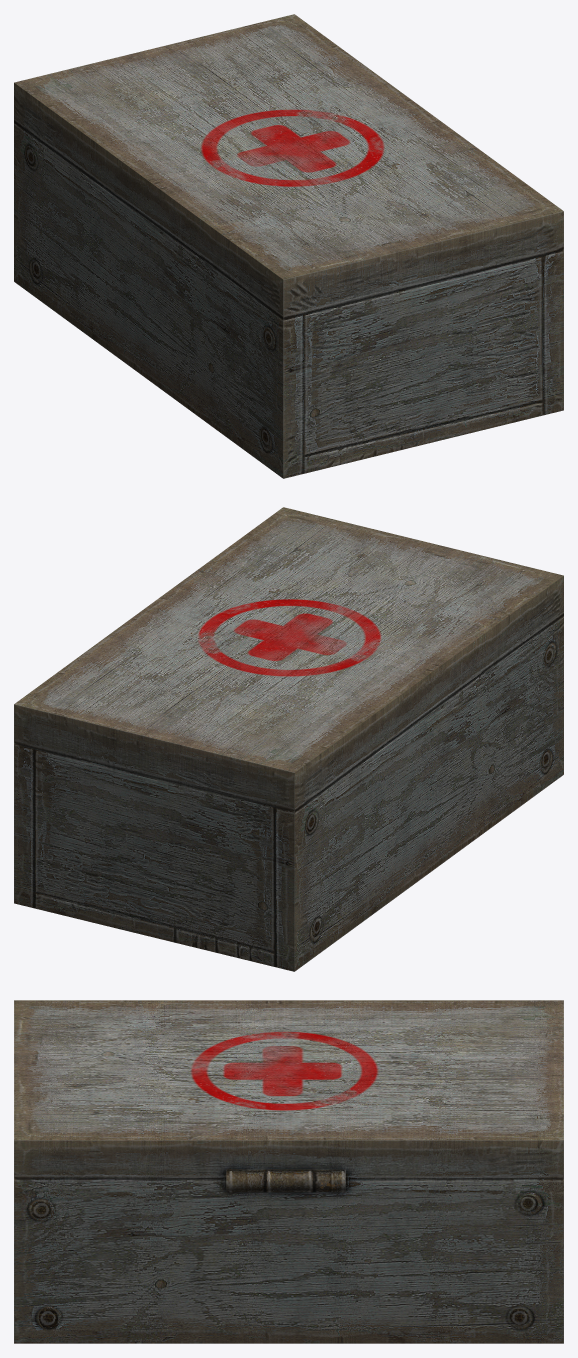
The model's file is medkit.fbx.
The picture shows the model from 3 angles, top to bottom: view 1: azimuth 30°, elevation 25°; view 2: azimuth 150°, elevation 25°; view 3: azimuth 270°, elevation 25°; orthographic projection. The views are drawn at different scales.
Parts seen in each view (by area): view 1: medkit; view 2: medkit; view 3: medkit.
Boxes of the visible parts, x1,y1,x2,y2 form: medkit: (14,14,563,478); medkit: (14,507,563,971); medkit: (14,1000,563,1343).
Size of the model in its own units: 41.01 by 26.89 by 65.95.
